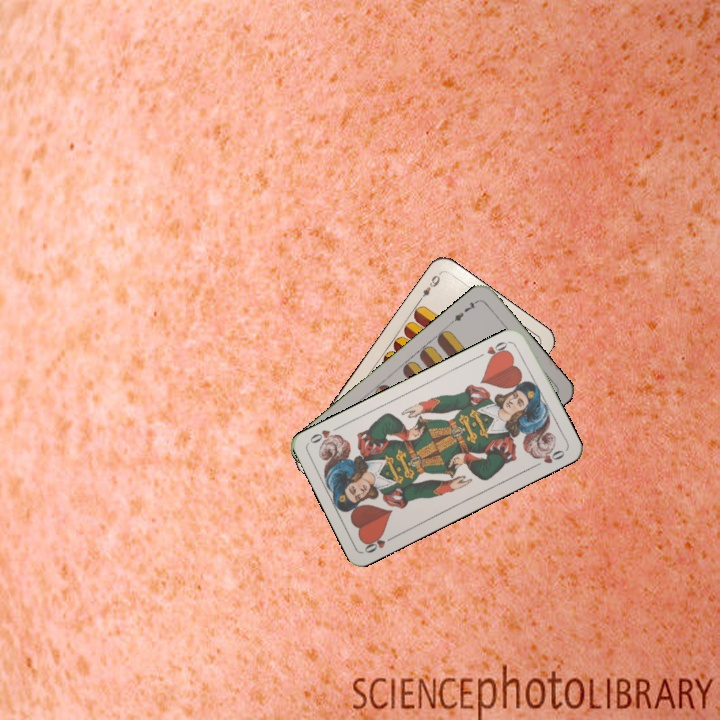E7: (447, 296, 481, 326)
E9: (415, 269, 443, 304)
HO: (360, 530, 399, 556), (474, 337, 512, 363)
